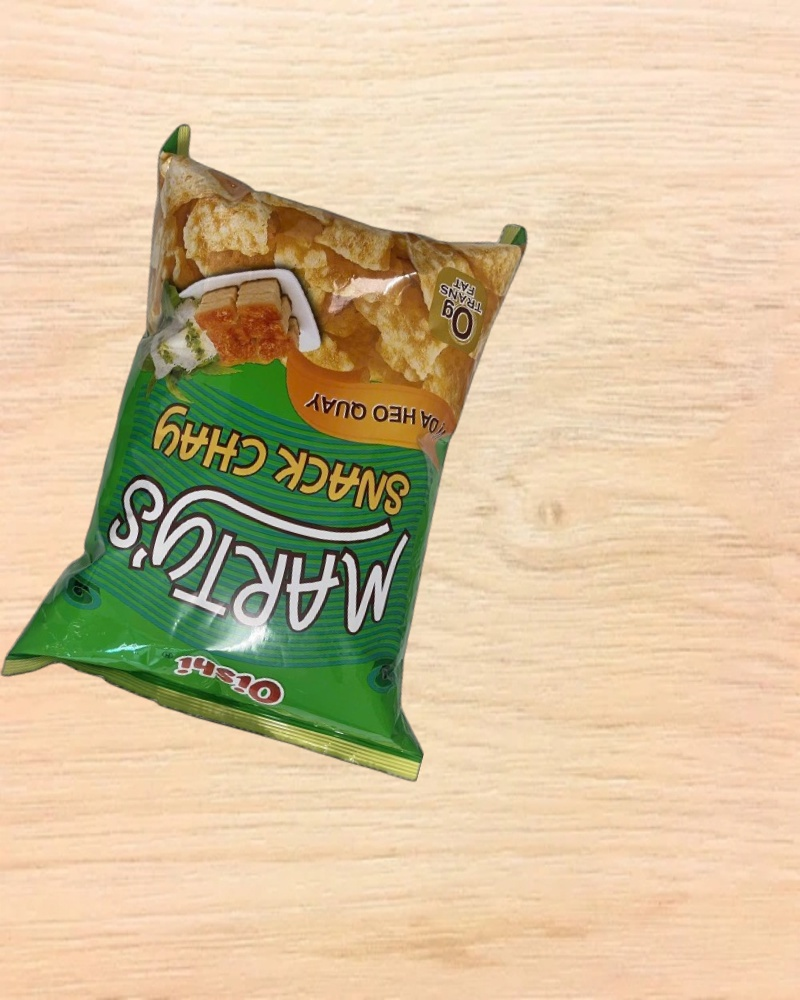Snack chay: (21, 123, 563, 786)
